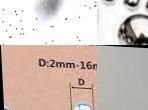ironball: (115, 10, 147, 45), (70, 95, 97, 109), (121, 0, 143, 9), (142, 0, 147, 17)
